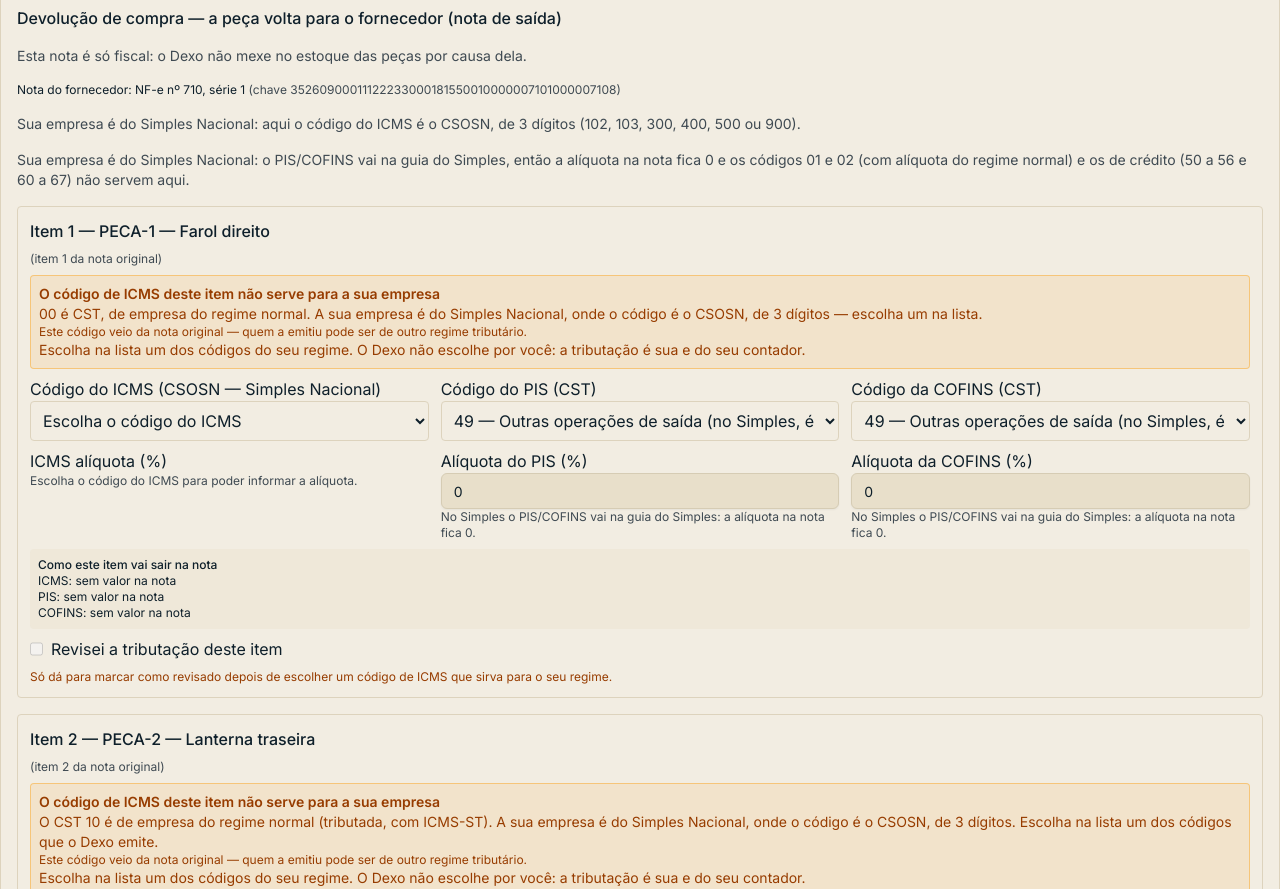
Scenario: campo de ICMS na tela — DLS AUTO PEÇAS, Simples Nacional › escolhido o 102, a recusa some, a caixa libera e o grupo diz que não leva alíquota
Select "102 — Tributada pelo Simples: o ICMS já está na guia do Simples, sem crédito par" in the dropdown labelled "Código do ICMS (CSOSN — Simples Nacional)" at (229, 421), box [30,401,429,441]
(page scrolled)
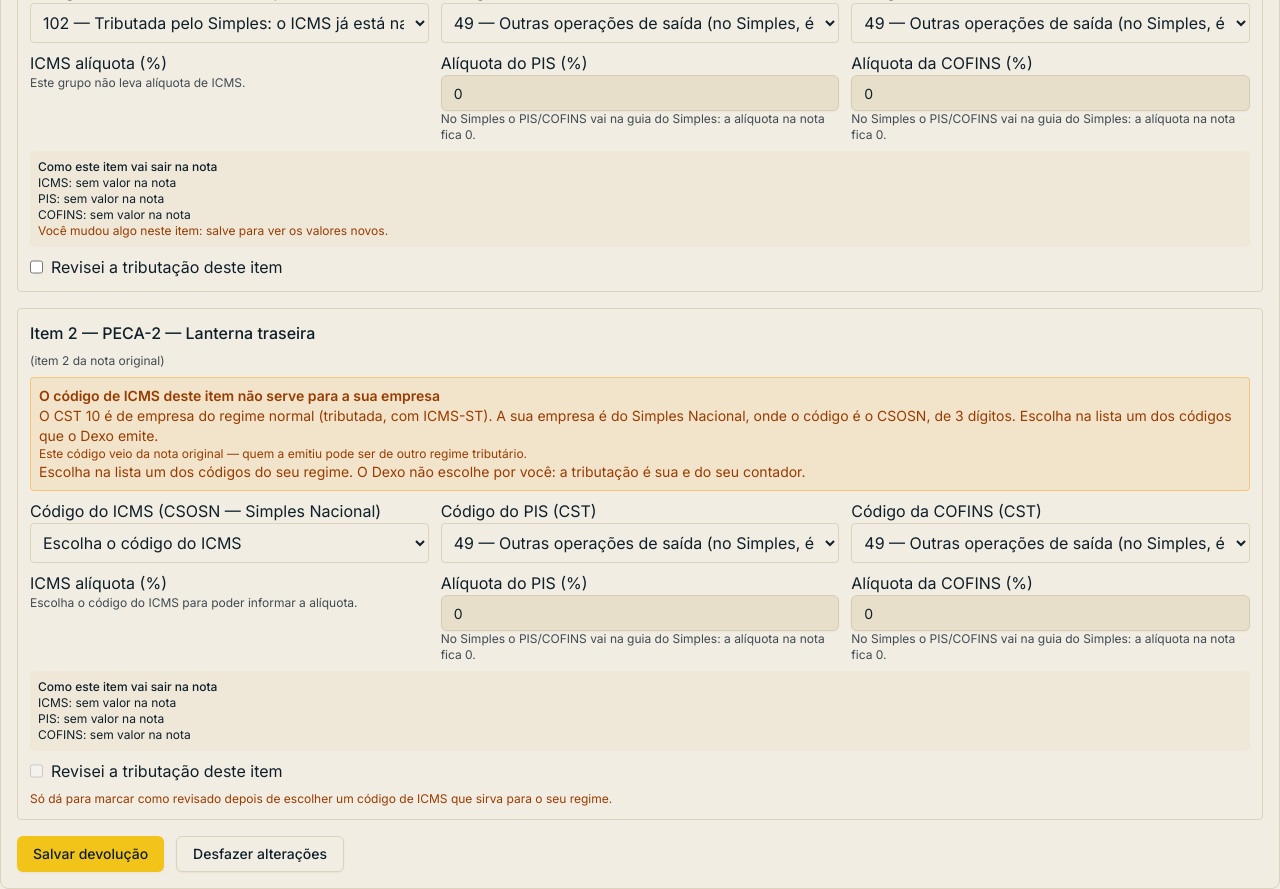
Expected: the number of messages is 1, [30,377,1250,491]
Expected: the checkbox labelled "Revisei a tributação deste item" below "Este grupo não leva alíquota de ICMS." is enabled, [30,255,43,279]
Expected: the text "Este grupo não leva alíquota de ICMS." is shown, [30,75,246,90]
